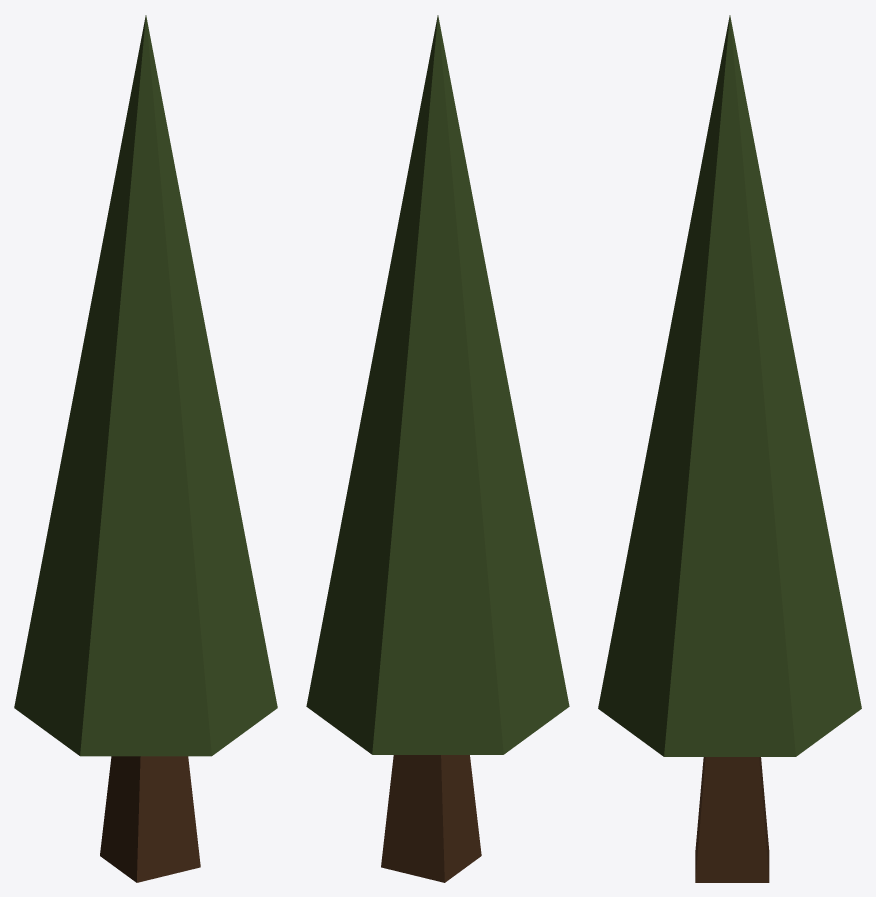
The model's file is lpTree.gltf.
The picture shows the model from 3 angles, left to right: view 1: azimuth 30°, elevation 25°; view 2: azimuth 150°, elevation 25°; view 3: azimuth 270°, elevation 25°; orthographic projection.
Visible parts, largest first — view 1: tree, trunk; view 2: tree, trunk; view 3: tree, trunk.
Part boxes in pixels (x1,y1,x2,y2): tree: (14,15,277,756); trunk: (100,756,200,882); tree: (306,15,569,754); trunk: (381,755,481,882); tree: (598,15,861,756); trunk: (695,757,769,882).
Size of the model in its own units: 0.5589 by 2.29 by 0.6453.
